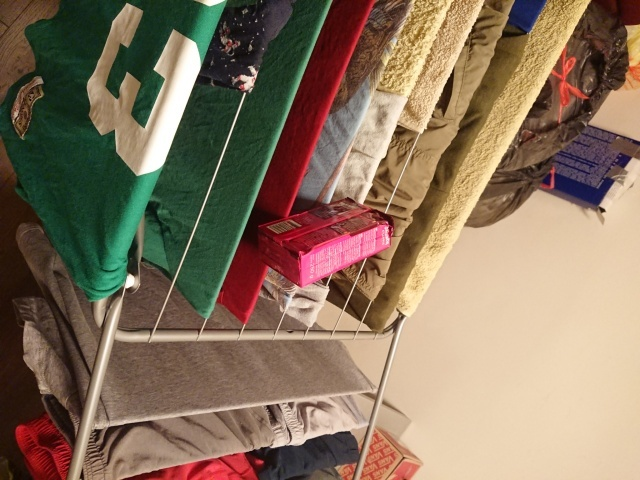Barcaffe Classic Original 225g: (253, 196, 397, 291)
